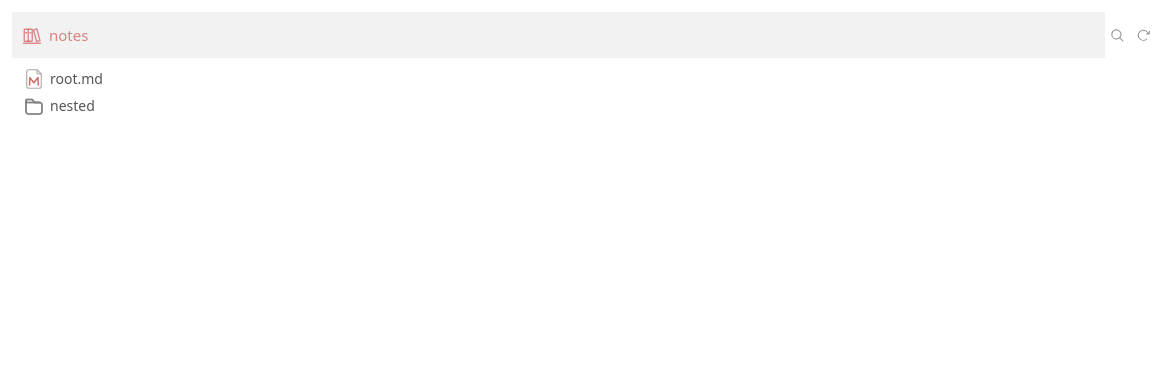
Test: retains searched descendant hits after retrying current failures (nested failure: false)
Step 1. Click the button named "搜索工作区" → (1118, 35), box [1105,22,1130,48]
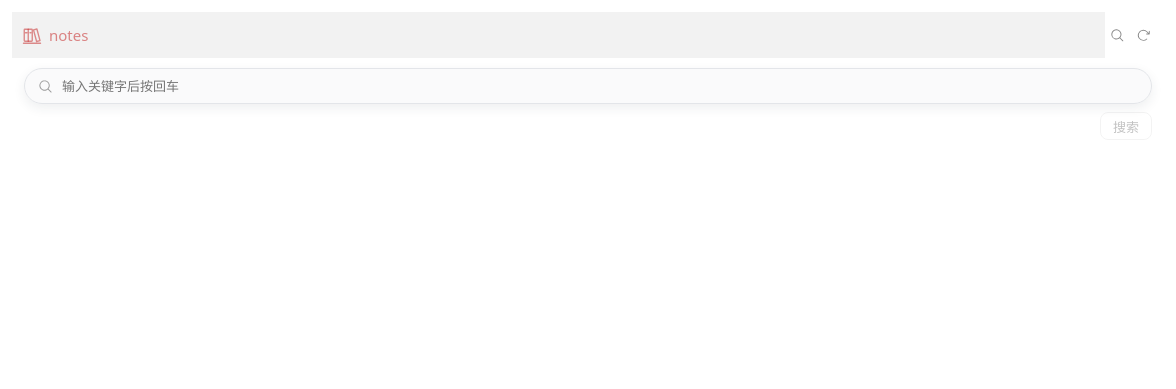
Step 2. Type "needle" into the search field named "搜索工作区" → (598, 86), box [53,72,1144,100]
Then press Enter
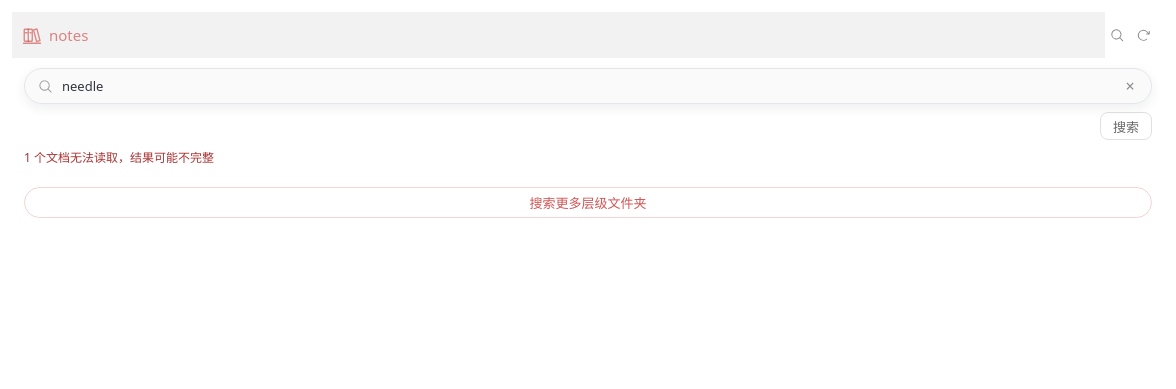
Step 3. Click the button "搜索更多层级文件夹" → (588, 202), box [24,187,1152,218]
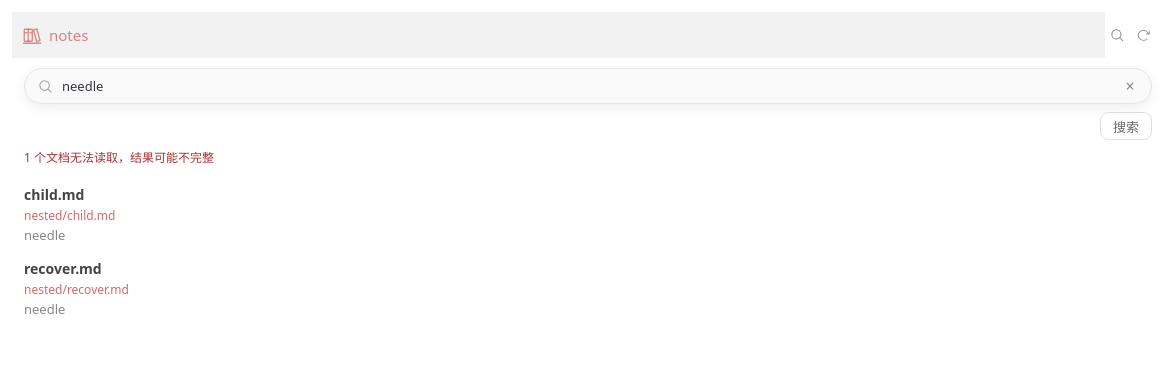
Result: the message "1 个文档无法读取，结果可能不完整" is shown at [24,149,214,166]
Result: the button "child.md nested/child.md needle" is shown at [12,178,1164,252]
Step 4. Click the button "搜索" → (1126, 126), box [1100,112,1152,140]
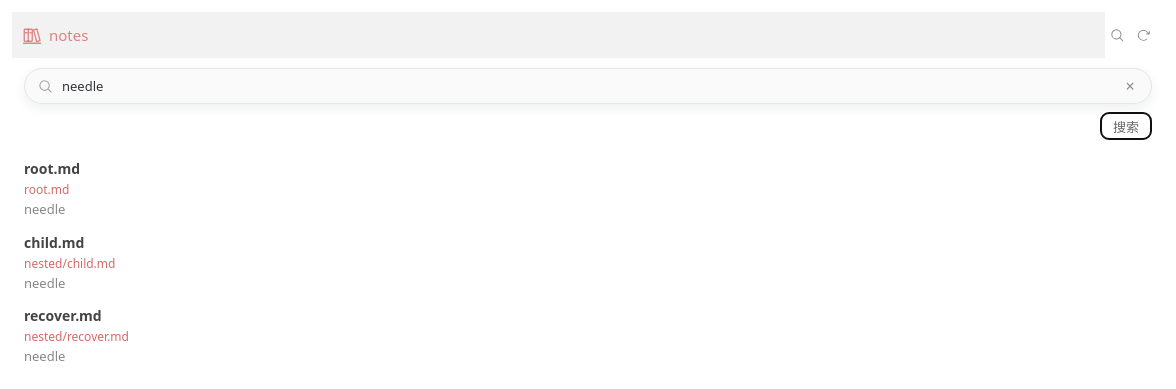
Result: the button "child.md nested/child.md needle" is shown at [12,226,1164,299]
Result: the button "root.md root.md needle" is shown at [12,152,1164,226]
Result: the message "1 个文档无法读取，结果可能不完整" is gone
